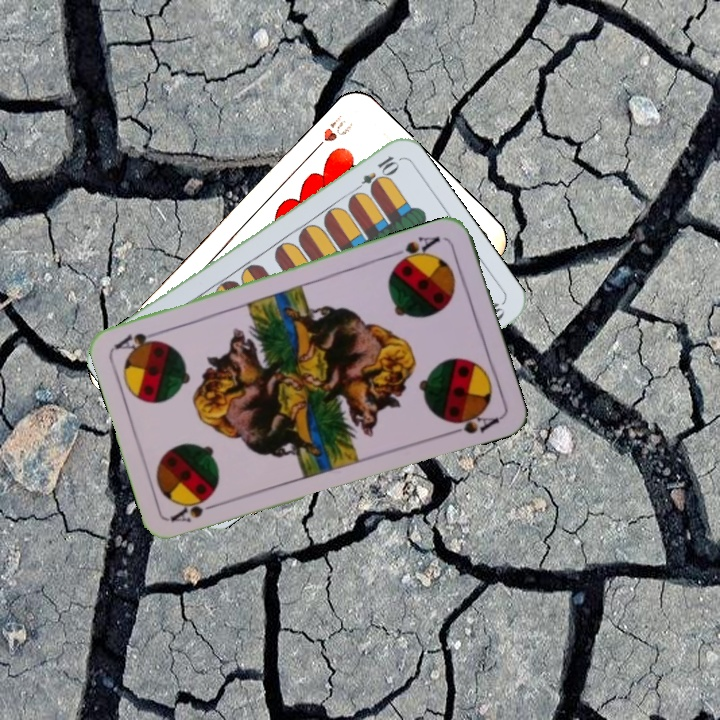E10: (348, 151, 401, 197)
H10: (307, 110, 355, 157)
SA: (388, 232, 443, 268), (167, 492, 225, 525)
